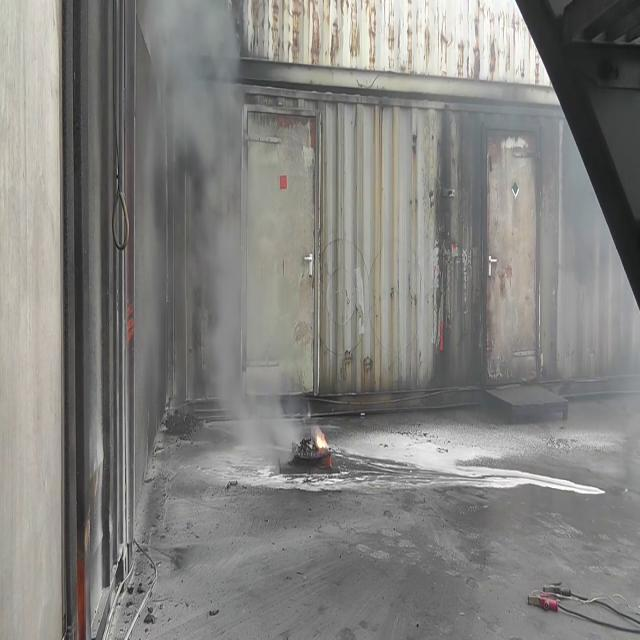Fire: (312, 422, 331, 459)
Smoke: (138, 2, 286, 458)
